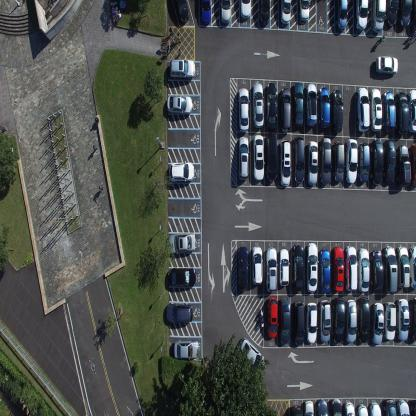car: (238, 337, 266, 371), (382, 245, 398, 293), (168, 57, 196, 82), (344, 244, 358, 292), (265, 131, 278, 182), (305, 242, 318, 292), (396, 143, 411, 186), (165, 301, 193, 324), (167, 232, 196, 254), (292, 135, 305, 184), (319, 136, 332, 185), (278, 296, 291, 345), (394, 90, 408, 135), (356, 86, 370, 131), (330, 88, 344, 133), (252, 133, 265, 181), (371, 138, 384, 186), (292, 299, 305, 347), (396, 245, 410, 289), (172, 338, 200, 360), (332, 297, 345, 344), (265, 80, 277, 130), (345, 138, 358, 184), (357, 247, 370, 293), (383, 138, 396, 183), (371, 301, 384, 346), (344, 298, 357, 343), (318, 298, 331, 343), (168, 267, 197, 287), (279, 138, 291, 186), (292, 244, 304, 292), (369, 88, 382, 132), (252, 81, 264, 128), (332, 245, 344, 292), (358, 296, 370, 343), (370, 0, 387, 33), (370, 249, 383, 292), (396, 298, 409, 341), (237, 87, 249, 133), (169, 160, 194, 182), (382, 90, 395, 132), (237, 136, 249, 181), (305, 82, 317, 127), (166, 94, 193, 114), (292, 80, 303, 128), (266, 296, 278, 340), (238, 245, 249, 292), (383, 301, 396, 340), (279, 86, 290, 132), (306, 139, 317, 185), (319, 248, 330, 294), (266, 246, 277, 292), (251, 244, 263, 286), (319, 86, 330, 130), (376, 53, 398, 75), (306, 301, 317, 344), (354, 0, 369, 31), (333, 140, 344, 182), (358, 142, 369, 183), (278, 247, 289, 287), (399, 0, 413, 29), (335, 0, 348, 30), (408, 88, 416, 134), (408, 142, 416, 188), (408, 244, 416, 289), (279, 0, 292, 25), (258, 0, 270, 26), (386, 0, 398, 25), (200, 0, 211, 26), (177, 0, 189, 23), (410, 298, 416, 343), (395, 398, 410, 416), (382, 397, 397, 415), (220, 0, 231, 23), (239, 0, 251, 20), (299, 0, 310, 21), (330, 397, 342, 415), (316, 397, 328, 415), (303, 398, 314, 416), (343, 400, 355, 416), (410, 0, 416, 31), (368, 402, 381, 416), (355, 403, 368, 415), (290, 404, 302, 415), (410, 398, 416, 416)
